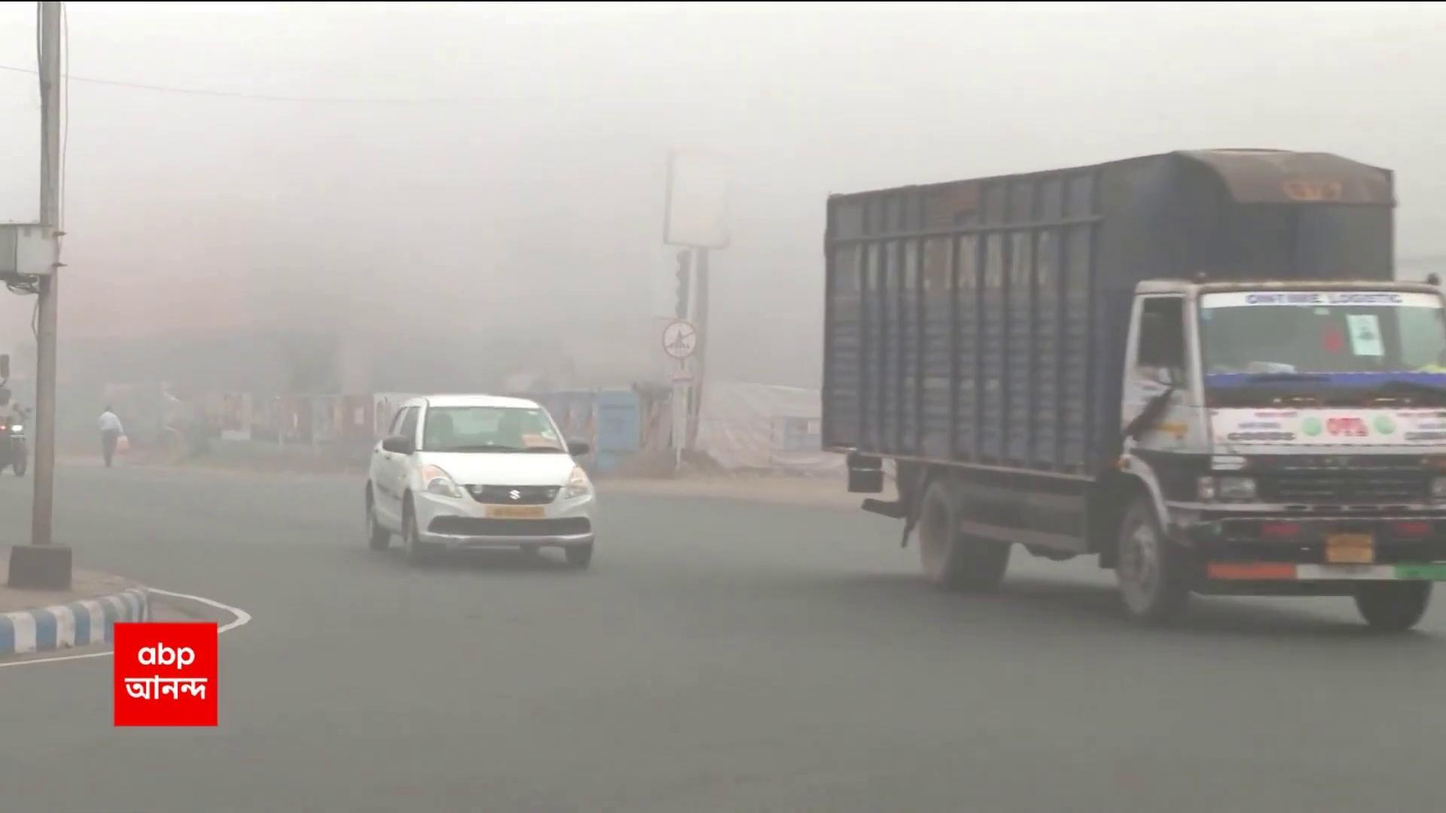Car: (362, 390, 601, 572)
Truck: (820, 145, 1446, 635)
